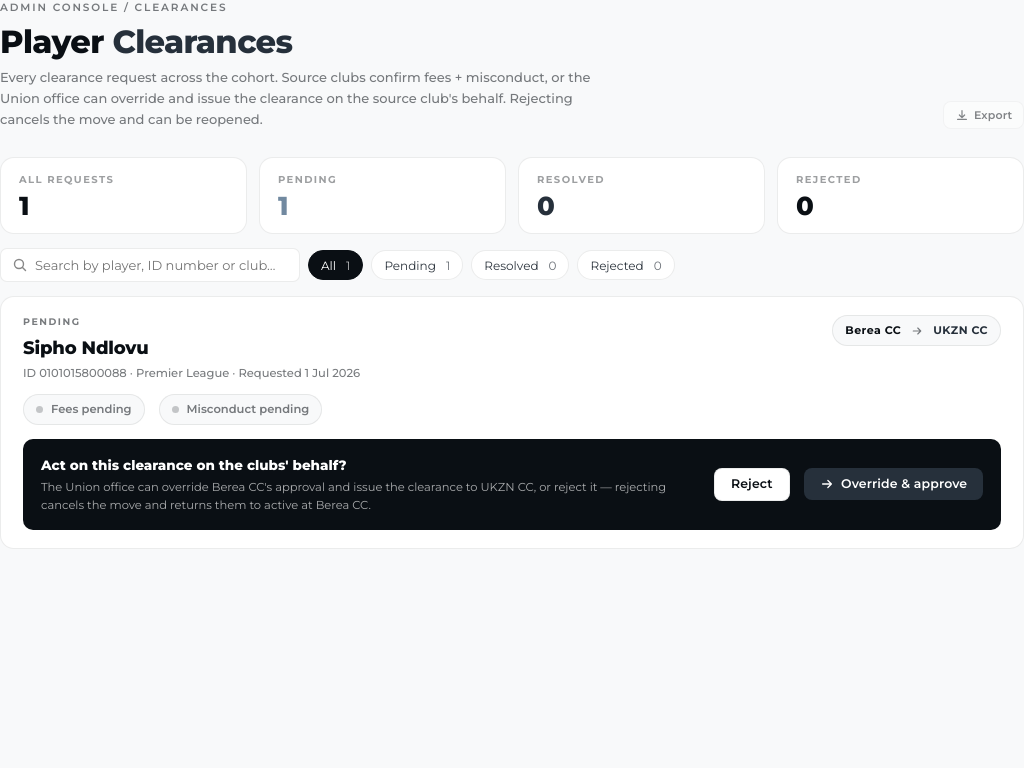
the reject confirmation names the predicted case › case A — a rep-initiated transfer returns the player to active at the source
Click the button "Reject".
click(752, 484)  # box left=714, top=468, right=790, bottom=501
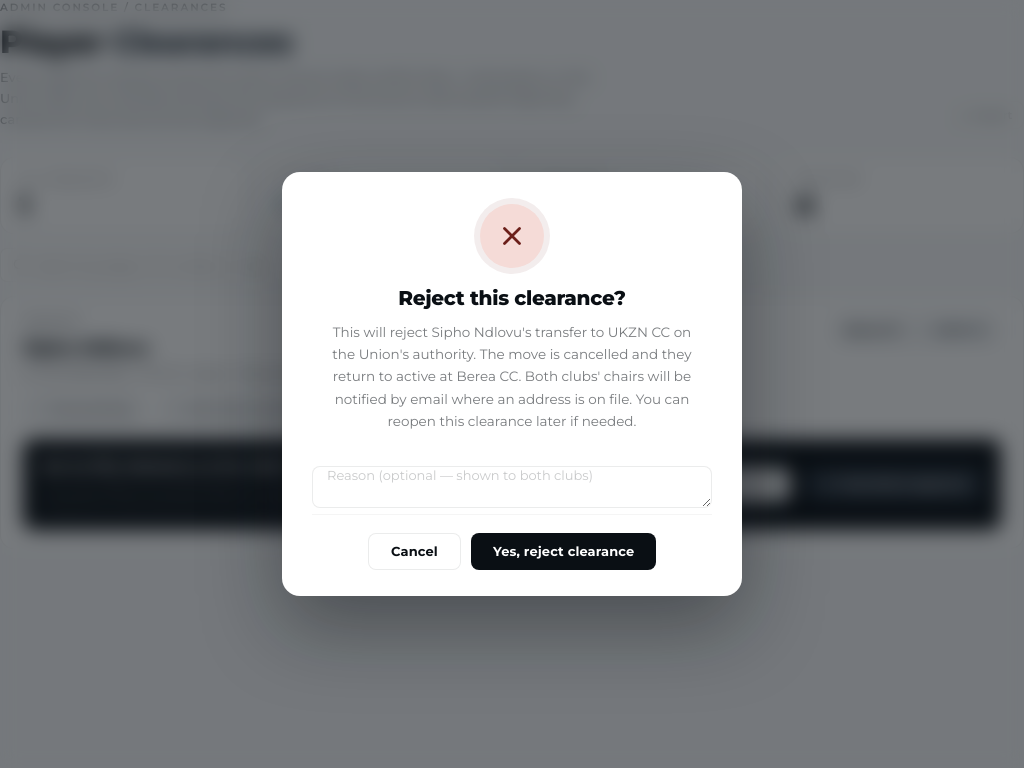
expect the text "the move is cancelled and they return to active at Berea CC" is shown: met, box left=332, top=324, right=692, bottom=429
